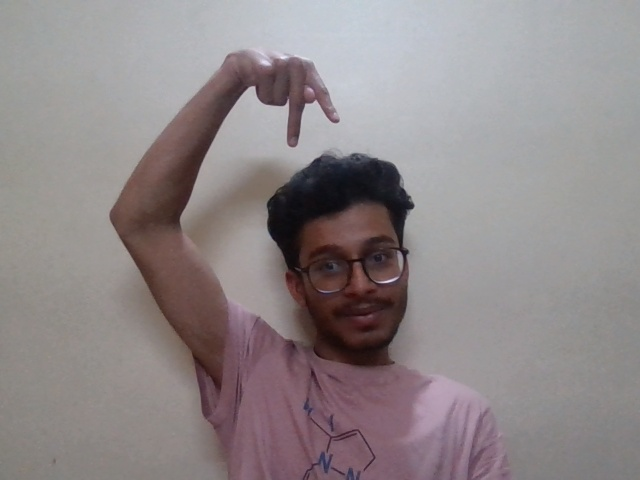P: (222, 40, 357, 148)
